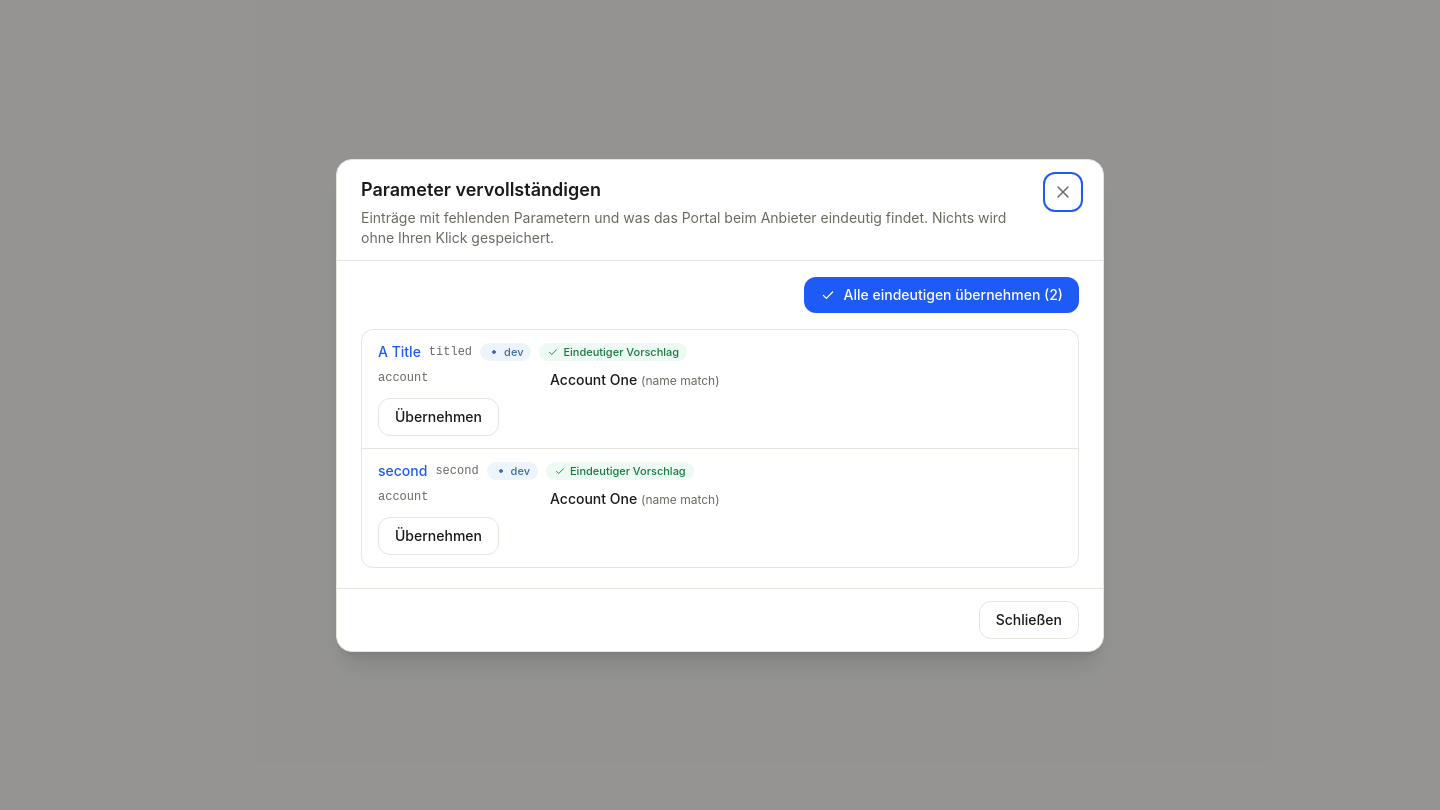
Test case: CompleteParamsDialog › reports partial failure when applying all
Click the button "Alle eindeutigen übernehmen (2)" at {"x": 941, "y": 294}, box [804,276,1079,312]
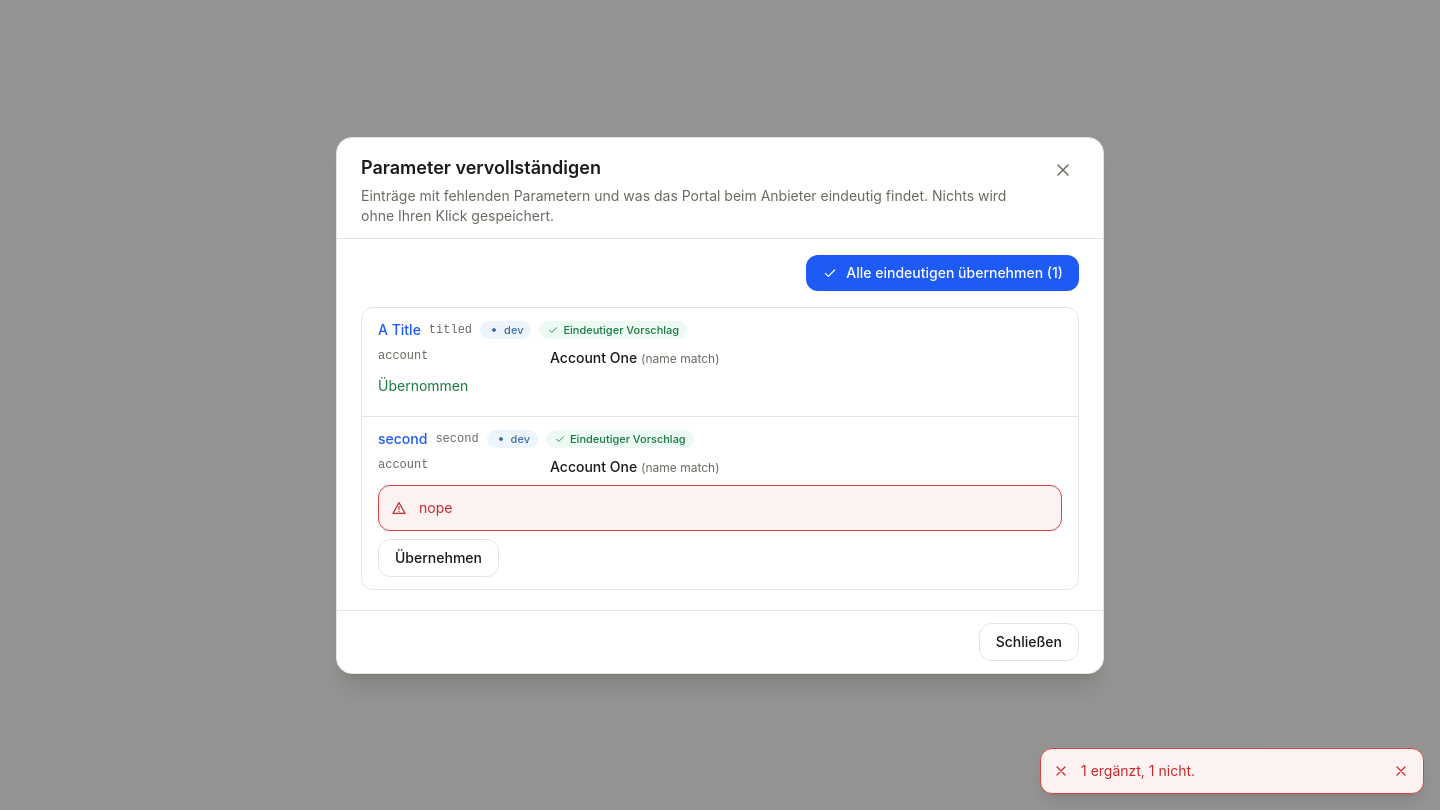
Expected: the button "Alle eindeutigen übernehmen (1)" is enabled, [806,254,1079,290]
Now the text "1 ergänzt, 1 nicht." is shown, box [1081,762,1195,779]
